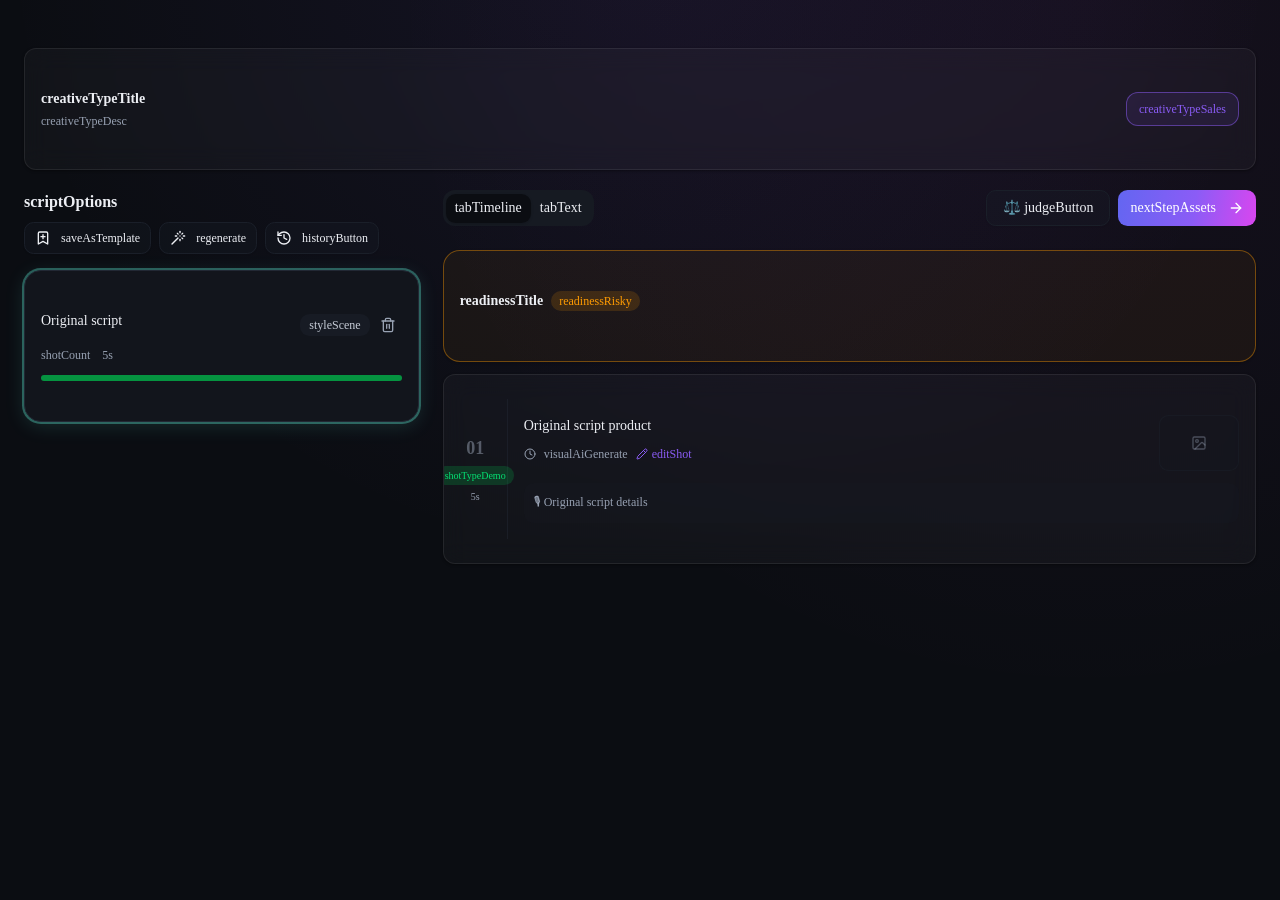
it: script regeneration recovers without a page refresh › replaces every option on repeated regeneration instead of accumulating batches
Click the button "regenerate": [208, 238] box [159,222,257,254]
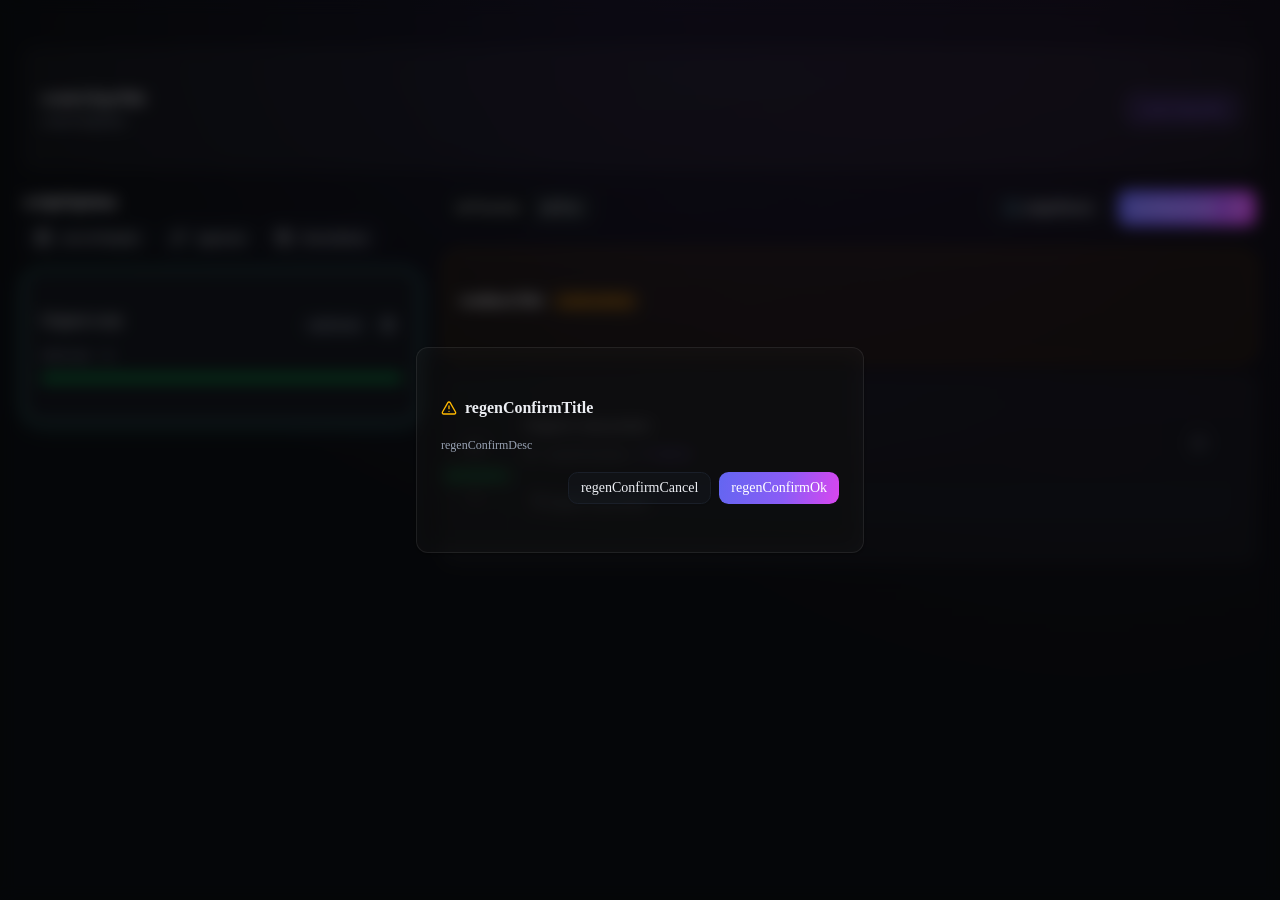
Click the button "regenConfirmOk": [779, 488] box [719,472,839,504]
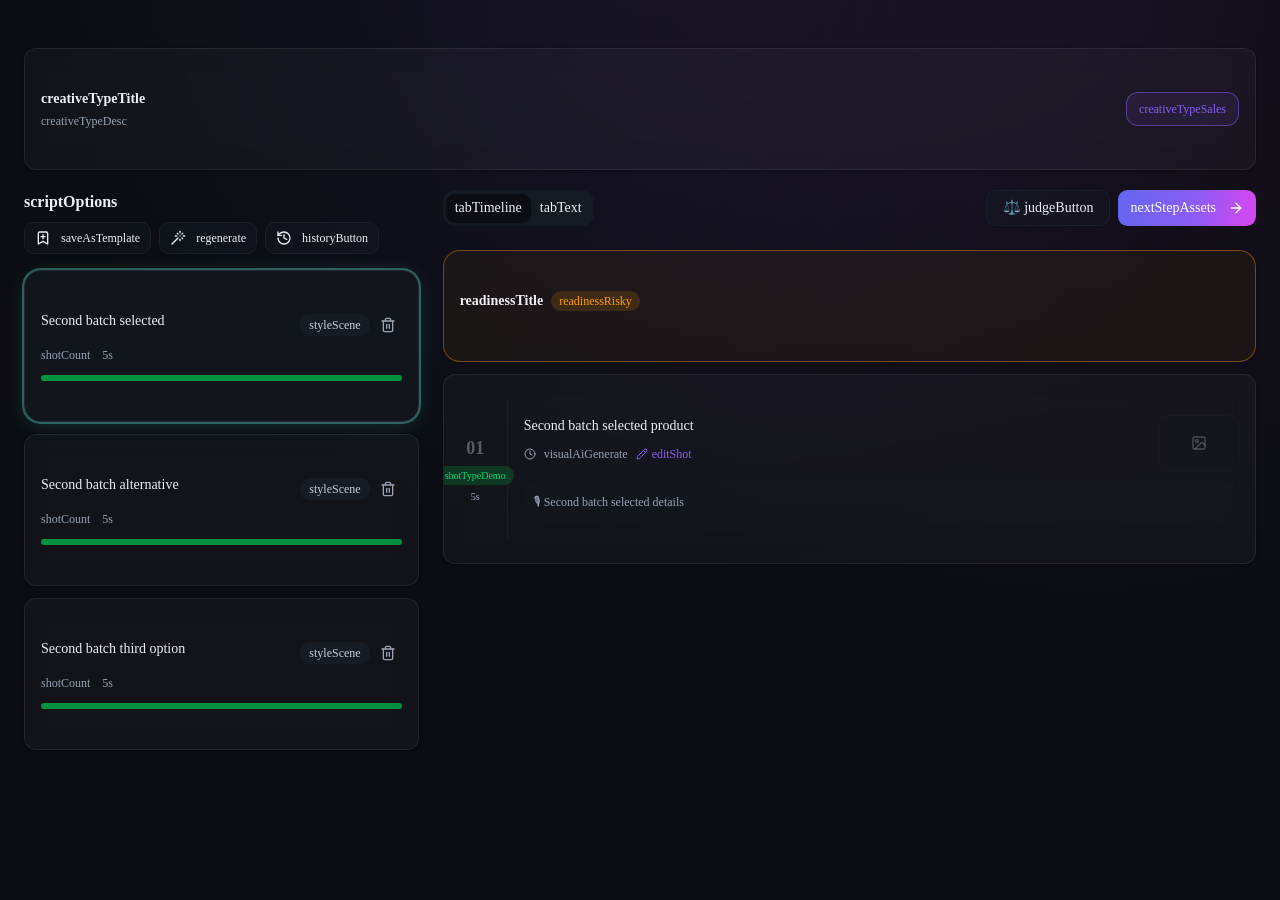
Result: the text "Second batch selected" is shown at [41,311,165,331]
Result: the text "Second batch alternative" is shown at [41,475,179,495]
Result: the text "Second batch third option" is shown at [41,639,185,659]
Click the button "regenerate": [208, 238] box [159,222,257,254]
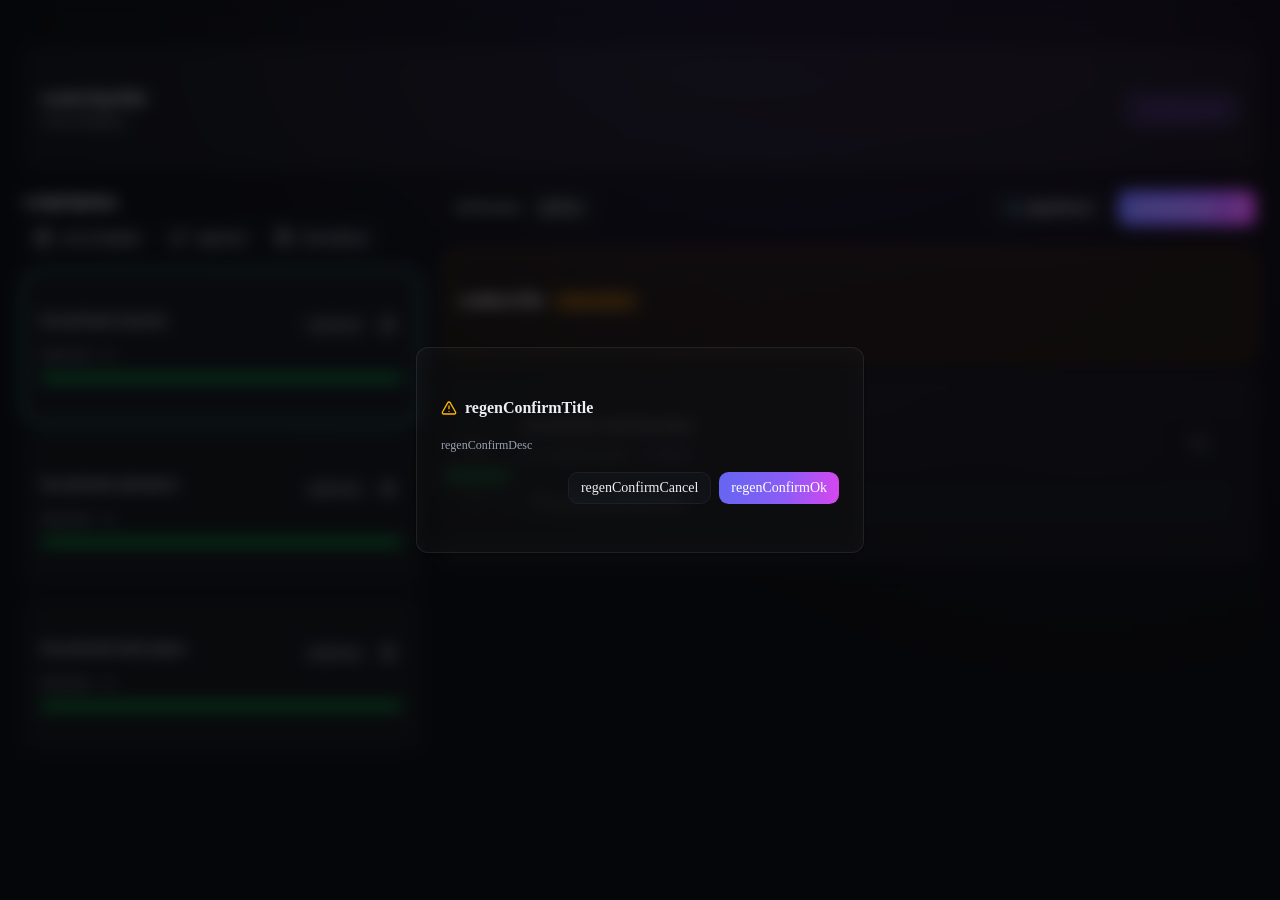
Click the button "regenConfirmOk": [779, 488] box [719,472,839,504]
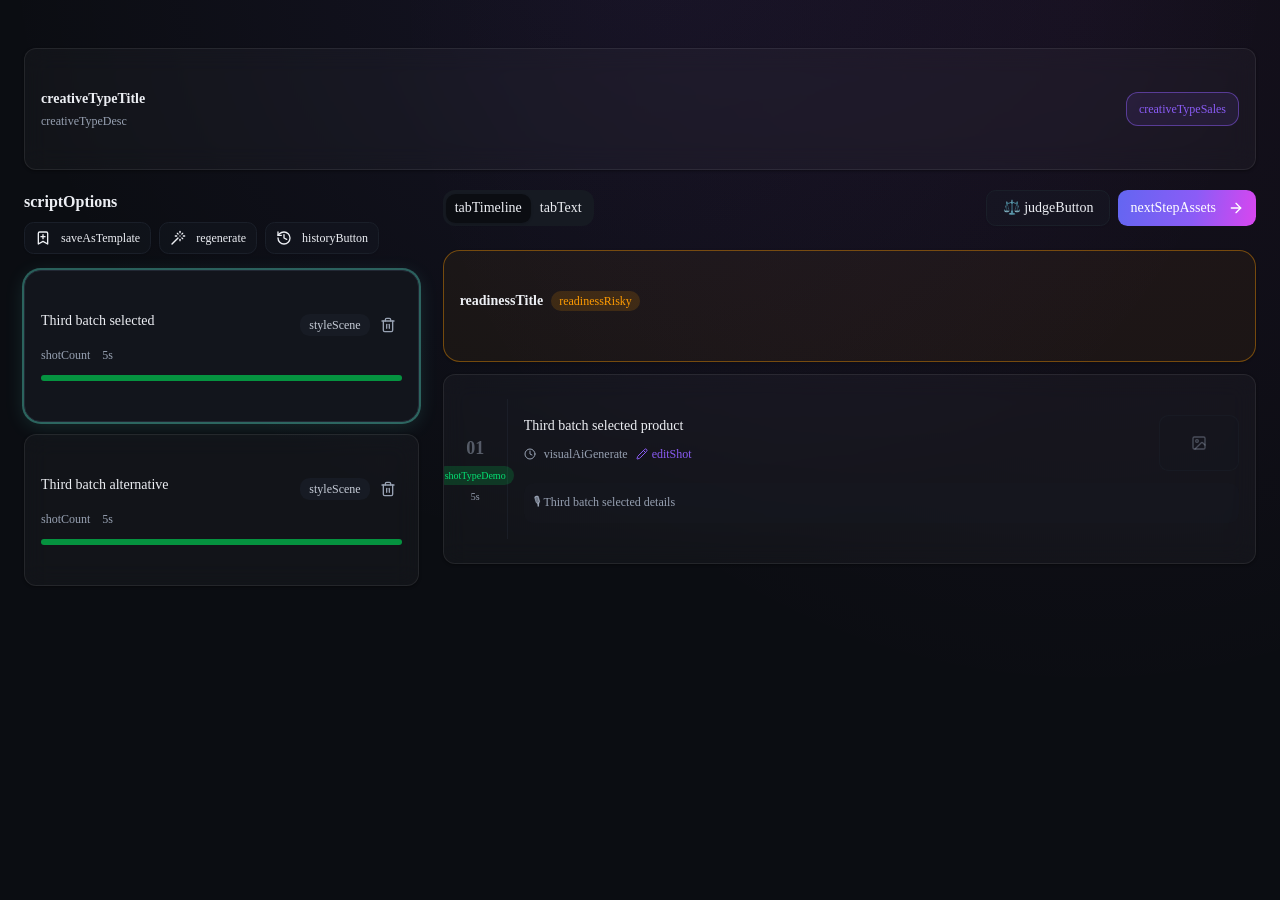
Result: the text "Third batch selected" is shown at [41,311,154,331]
Result: the text "Third batch alternative" is shown at [41,475,168,495]
Result: the text "Second batch selected" is gone
